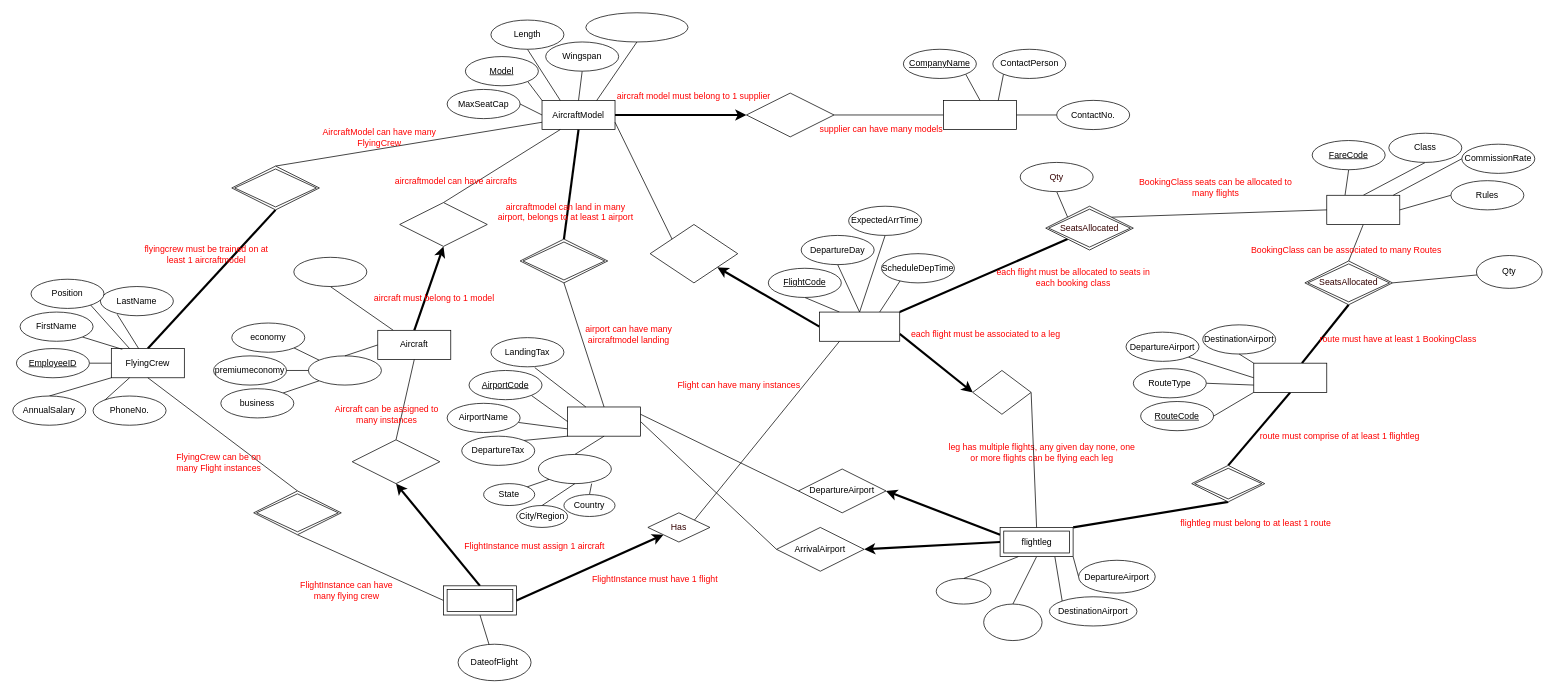
Some shapes in this 1555 by 694 pixel diagram are drawn without their labels. The shapes that lost their labels are listed below. From the top down, each one's centre as x and y in pixels, then its label:
At pixel 636 27: "RunwayLengthReq".
At pixel 790 114: "Manufactured_by".
At pixel 980 115: "Supplier".
At pixel 275 187: "TrainedOn".
At pixel 443 224: "Type".
At pixel 1363 209: "BookingClass".
At pixel 330 272: "RegistrationNo.".
At pixel 563 260: "CanLand".
At pixel 693 253: "DefaultAircraft".
At pixel 859 326: "Flights".
At pixel 344 370: "Seat Capacity".
At pixel 1290 377: "Routes".
At pixel 1001 392: "associate".
At pixel 604 421: "Airport".
At pixel 395 461: "assigned".
At pixel 574 469: "Location".
At pixel 1228 483: "comprised_of".
At pixel 297 512: "Relationship".
At pixel 479 600: "FlightInstance".
At pixel 963 591: "Duration".
At pixel 1012 622: "Length(miles)".
